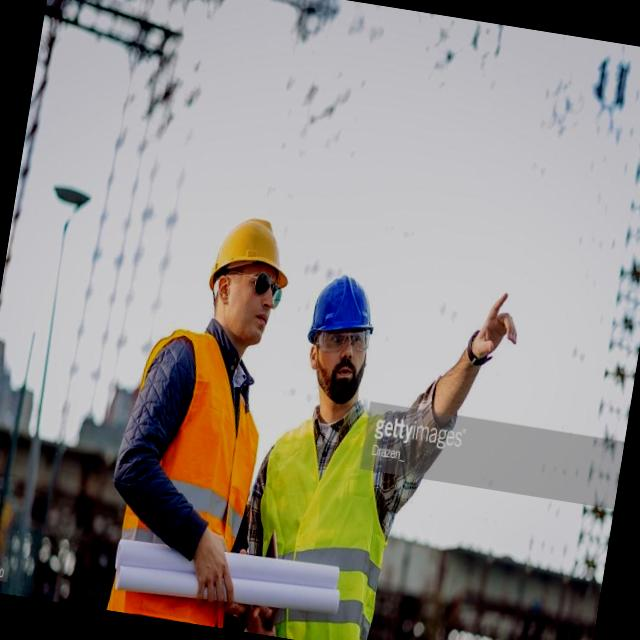goggles: (214, 260, 289, 314), (309, 322, 376, 364)
helmet: (205, 206, 299, 293), (304, 264, 386, 352)
vest: (106, 320, 283, 631), (245, 399, 398, 640)
